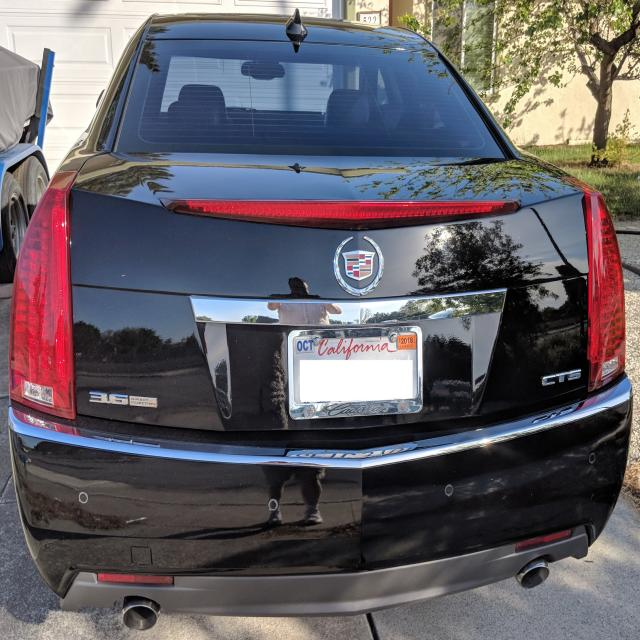scratch: (125, 516, 148, 524)
